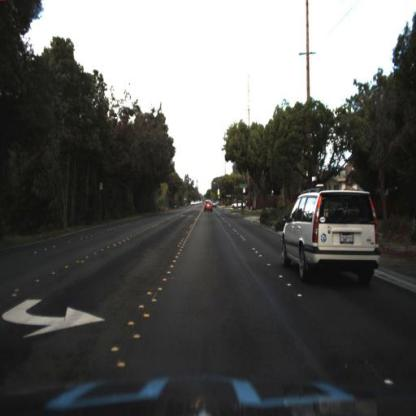car: (281, 180, 382, 293), (229, 195, 249, 212), (204, 195, 216, 217), (231, 198, 246, 213)
